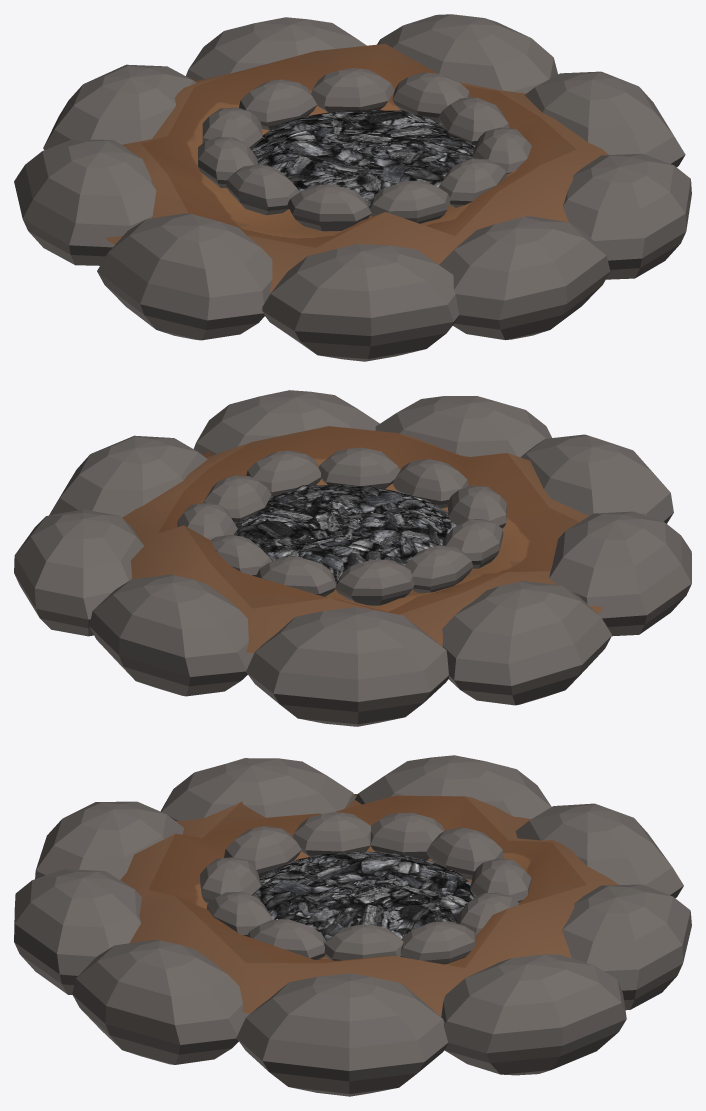
The model's file is P_campfire_1.fbx.
3 views of the same model, one above another, from view 1: azimuth 30°, elevation 25°; view 2: azimuth 150°, elevation 25°; view 3: azimuth 270°, elevation 25° (orthographic). The views are drawn at different scales.
Visible parts, largest first — view 1: polySurface62; view 2: polySurface62; view 3: polySurface62.
Part boxes in pixels (x1=…): polySurface62: x1=14, y1=14, x2=691, y2=361; polySurface62: x1=14, y1=390, x2=691, y2=726; polySurface62: x1=14, y1=755, x2=691, y2=1096.
Size of the model in its own units: 402 by 76.8 by 402.
